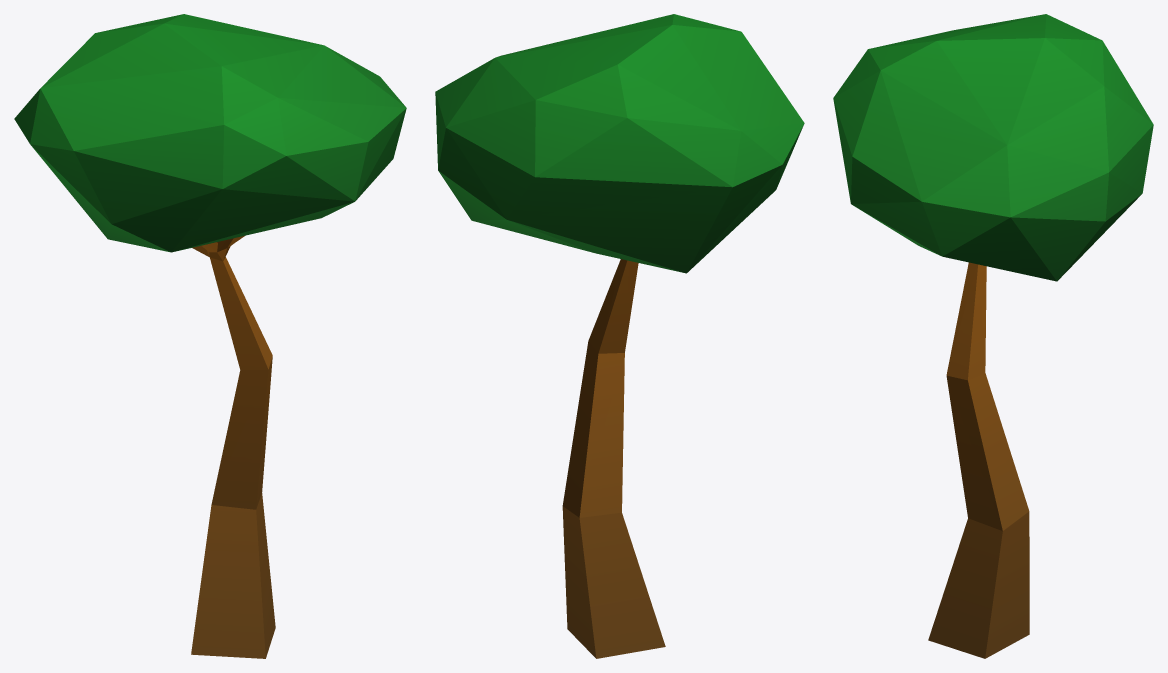
File: Tree_9.fbx
3 views of the same model, side by side, from view 1: azimuth 30°, elevation 25°; view 2: azimuth 150°, elevation 25°; view 3: azimuth 270°, elevation 25° (orthographic). The views are drawn at different scales.
Parts seen in each view (by area): view 1: Tree_9; view 2: Tree_9; view 3: Tree_9.
Boxes of the visible parts, x1=… form: Tree_9: x1=14, y1=14, x2=406, y2=658; Tree_9: x1=435, y1=14, x2=804, y2=658; Tree_9: x1=833, y1=14, x2=1153, y2=658.
Size of the model in its own units: 486 by 804 by 401.
